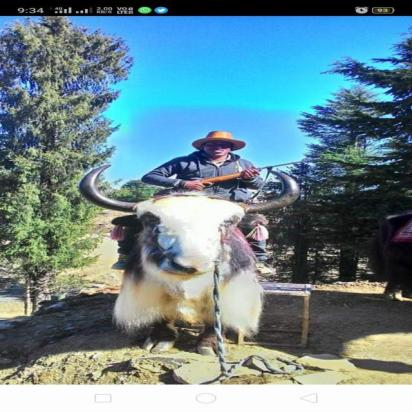Gun: (152, 157, 322, 199)
